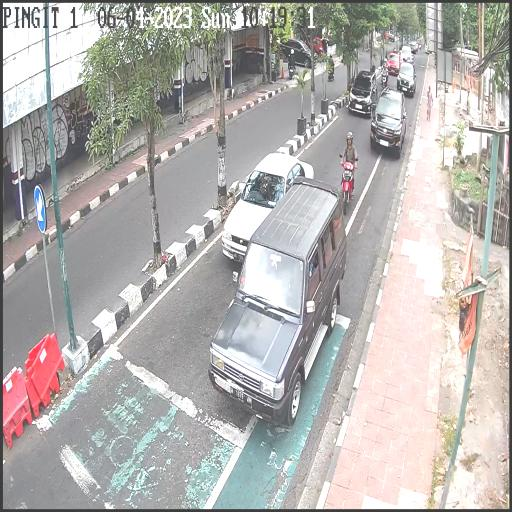mobil: (208, 183, 344, 421), (223, 149, 314, 267), (372, 87, 408, 162), (348, 67, 377, 124), (396, 60, 417, 97), (386, 51, 400, 76), (400, 44, 414, 66)
motor: (336, 152, 359, 213), (380, 69, 388, 88)
